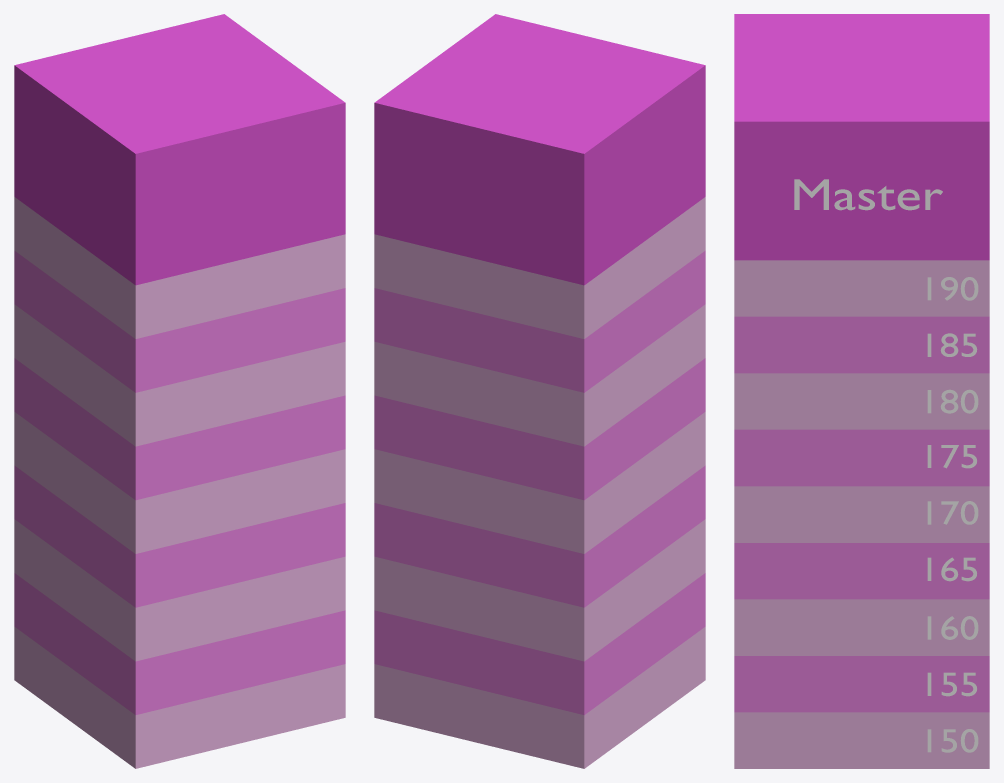
The model's file is master_block.fbx.
The picture shows the model from 3 angles, left to right: view 1: azimuth 30°, elevation 25°; view 2: azimuth 150°, elevation 25°; view 3: azimuth 270°, elevation 25°; orthographic projection. The views are drawn at different scales.
Parts seen in each view (by area): view 1: Cube.039, Cube.038, Cube.037, Cube.032, Cube.031, Cube.030, Cube.036, Cube.035, Cube.033, Cube.034; view 2: Cube.039, Cube.038, Cube.037, Cube.032, Cube.031, Cube.030, Cube.036, Cube.035, Cube.033, Cube.034; view 3: Cube.039, Cube.035, Cube.037, Cube.034, Cube.031, Cube.033, Cube.030, Cube.032, Cube.038, Cube.036, Text.030, Text.037 (+8 smaller).
Part boxes in pixels (x1,y1,x2,y2): Cube.039: (14, 14, 345, 285); Cube.038: (14, 197, 345, 338); Cube.037: (14, 250, 345, 392); Cube.032: (14, 519, 345, 661); Cube.031: (14, 573, 345, 715); Cube.030: (14, 627, 345, 768); Cube.036: (14, 304, 345, 446); Cube.035: (14, 358, 345, 500); Cube.033: (14, 465, 345, 607); Cube.034: (14, 412, 345, 553); Cube.039: (374, 14, 705, 285); Cube.038: (374, 197, 705, 338); Cube.037: (374, 250, 705, 392); Cube.032: (374, 519, 705, 661); Cube.031: (374, 573, 705, 715); Cube.030: (374, 627, 705, 768); Cube.036: (374, 304, 705, 446); Cube.035: (374, 358, 705, 500); Cube.033: (374, 465, 705, 607); Cube.034: (374, 412, 705, 553); Cube.039: (734, 14, 989, 260); Cube.035: (734, 429, 989, 486); Cube.037: (734, 316, 989, 373); Cube.034: (734, 486, 989, 542); Cube.031: (734, 656, 989, 712); Cube.033: (734, 543, 989, 599); Cube.030: (734, 712, 989, 768); Cube.032: (734, 599, 989, 655); Cube.038: (734, 260, 989, 316); Cube.036: (734, 373, 989, 429); Text.030: (794, 179, 942, 210); Text.037: (927, 389, 978, 413).
Size of the model in its own units: 200 by 560 by 200.
